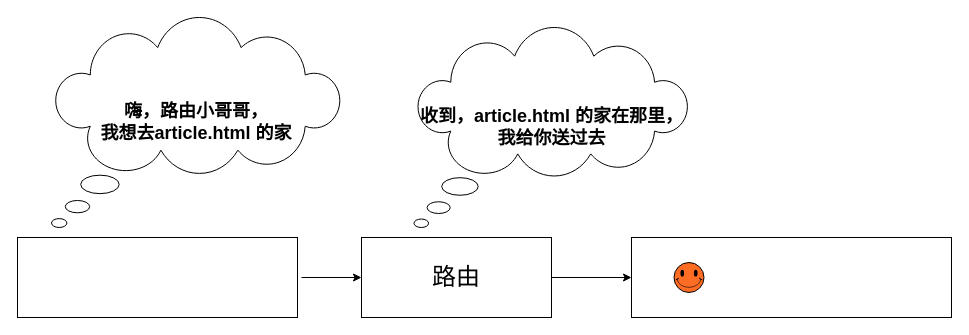
The diagram is 969 pixels wide and 335 high, and some of its shapes have lost their labels. Each missing label, with the box of its shape:
http: //192.168.1.1/article.html: (16, 236, 298, 318)
我是article.html: (630, 236, 952, 318)
